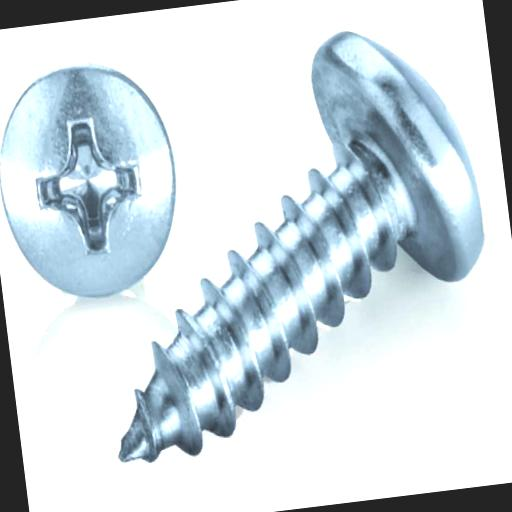Phillips: (0, 49, 188, 310)
